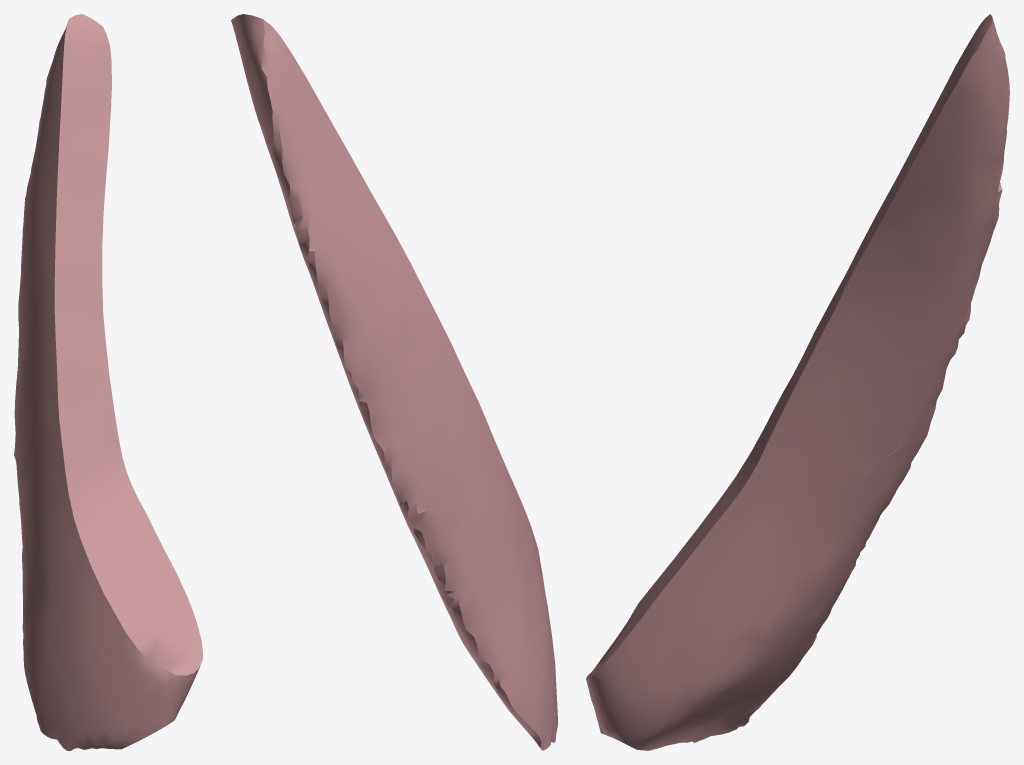
Rendered from fma39377-f_mm1976m.glb.
3 renders of one model, left to right at view 1: azimuth 30°, elevation 25°; view 2: azimuth 150°, elevation 25°; view 3: azimuth 270°, elevation 25°, orthographic. The views are drawn at different scales.
Parts seen in each view (by area): view 1: FMA39377-F_MM1976M; view 2: FMA39377-F_MM1976M; view 3: FMA39377-F_MM1976M.
Part boxes in pixels (box(x1,y1,x2,y2)): FMA39377-F_MM1976M: box(14, 14, 202, 750); FMA39377-F_MM1976M: box(231, 14, 557, 750); FMA39377-F_MM1976M: box(586, 14, 1009, 750).
Size of the model in its own units: 0.0075 by 0.0286 by 0.0137.
